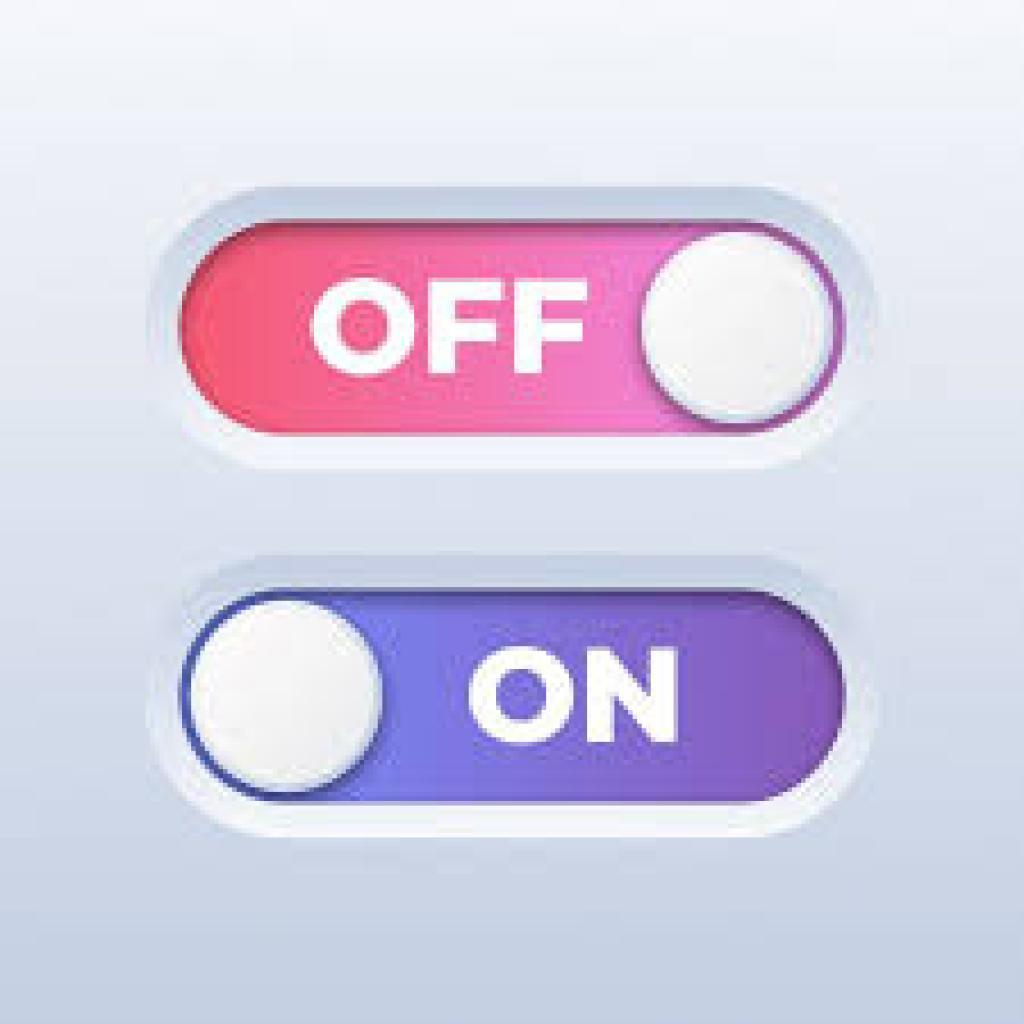switch: (155, 556, 878, 851), (149, 191, 885, 461)
